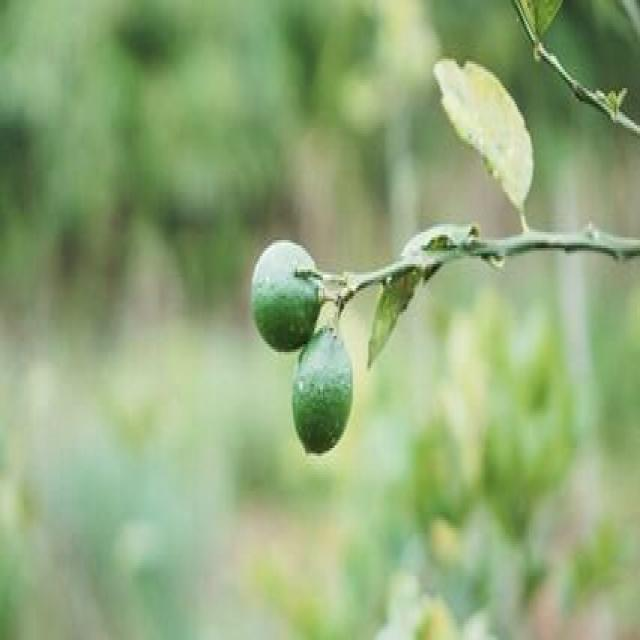Jeruk Belum Matang: (290, 320, 355, 456), (251, 240, 323, 352)
